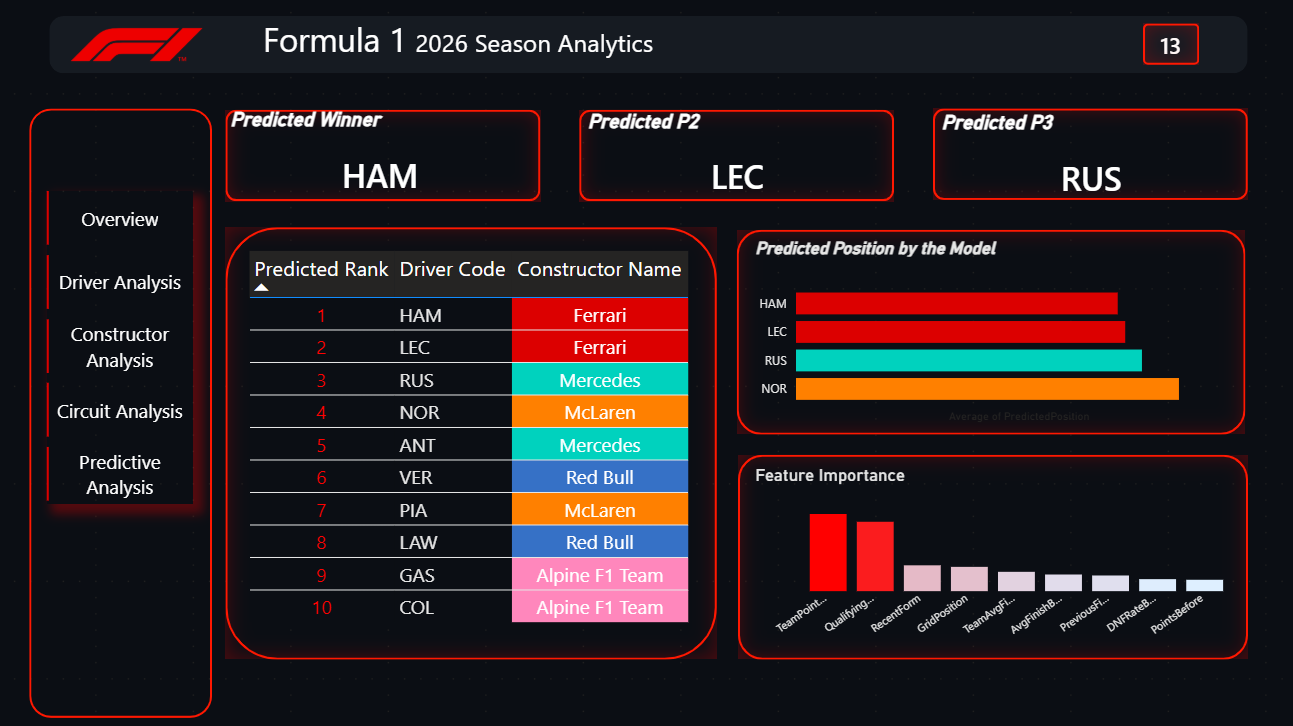

This screenshot's page, from the dashboard's own definition file:
{"tool":"powerbi","page":{"name":"Predictive Analysis","canvas":[1280,720],"ordinal":4},"visuals":[{"type":"shape","box":[50.3,19.6,1180,56.4],"z":0},{"type":"image","box":[34.4,9.8,203.7,76.1],"z":1000},{"type":"shape","box":[30.8,110.8,180,600],"z":2000},{"type":"shape","box":[224,112,310,90],"z":3000},{"type":"shape","box":[920.3,110.4,310,90],"z":4000},{"type":"shape","box":[572.1,112,310,90],"z":5000},{"type":"cardVisual","title":"Upcoming Round","fields":{"Data":["Avg(f1_prediction_results.Round)"]},"box":[1030.2,27.1,249.8,40.6],"z":6000},{"type":"cardVisual","title":"Predicted P2","fields":{"Data":["Min(f1_prediction_results.Abbreviation)"]},"box":[576,112,304,96],"z":7000},{"type":"pageNavigator","box":[48,192,144,307.7],"z":8000},{"type":"textbox","box":[256,16,432,64],"z":9000},{"type":"shape","box":[727.4,230.2,500.9,201.8],"z":10000},{"type":"shape","box":[224,227.7,483.7,425.8],"z":11000},{"type":"shape","box":[1127.4,27.1,55.4,40.6],"z":12000},{"type":"cardVisual","title":"Predicted Winner","fields":{"Data":["Min(f1_prediction_results.Abbreviation)"]},"box":[224,110.8,304,96],"z":13000},{"type":"cardVisual","title":"Predicted P3","fields":{"Data":["Min(f1_prediction_results.Abbreviation)"]},"box":[923.8,112.7,304,96],"z":14000},{"type":"tableEx","fields":{"Values":["f1_prediction_results.PredictedRank","f1_prediction_results.Abbreviation","f1_prediction_results.TeamName"]},"box":[241.2,246.2,450.5,407.4],"z":15000},{"type":"clusteredBarChart","title":"Predicted Position by the Model","fields":{"Category":["f1_prediction_results.Abbreviation"],"Y":["Avg(f1_prediction_results.PredictedPosition)"]},"box":[740.9,237.5,489.8,187.1],"z":16000},{"type":"shape","box":[728.6,451.7,502.2,201.8],"z":17000},{"type":"clusteredColumnChart","title":"Feature Importance","fields":{"Category":["f1_feature_importance.Feature"],"Y":["Sum(f1_feature_importance.Importance)"]},"box":[740.9,461.5,489.8,178.5],"z":18000}]}

Visuals, with their boxes in screenshot pixels (x1, y1, x2, y2), scaled from the page's 1280x720 canvas onto the 1293x726 screenshot:
shape: (51,20,1243,77)
image: (35,10,241,87)
shape: (31,112,213,717)
shape: (226,113,539,204)
shape: (930,111,1243,202)
shape: (578,113,891,204)
"Upcoming Round" cardVisual: (1041,27,1292,68)
"Predicted P2" cardVisual: (582,113,889,210)
pageNavigator: (48,194,194,504)
textbox: (259,16,695,81)
shape: (735,232,1241,436)
shape: (226,230,715,659)
shape: (1139,27,1195,68)
"Predicted Winner" cardVisual: (226,112,533,209)
"Predicted P3" cardVisual: (933,114,1240,210)
tableEx - f1_prediction_results.PredictedRank x f1_prediction_results.Abbreviation: (244,248,699,659)
"Predicted Position by the Model" clusteredBarChart: (748,239,1243,428)
shape: (736,455,1243,659)
"Feature Importance" clusteredColumnChart: (748,465,1243,645)
